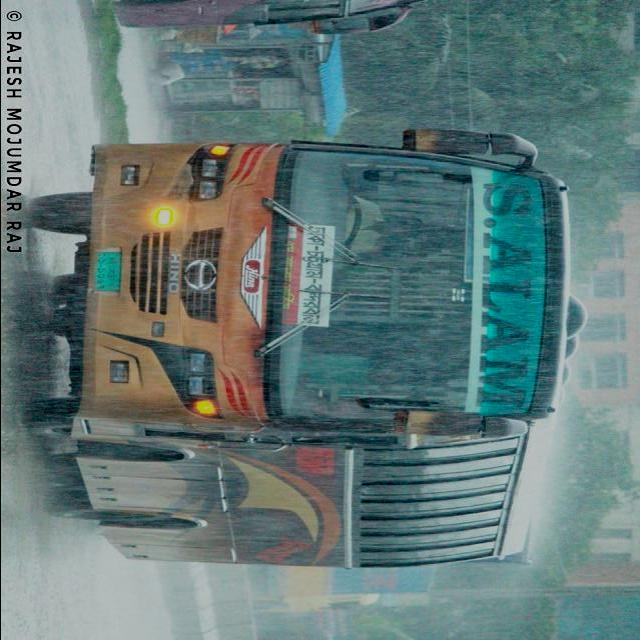bus: (22, 129, 590, 571)
